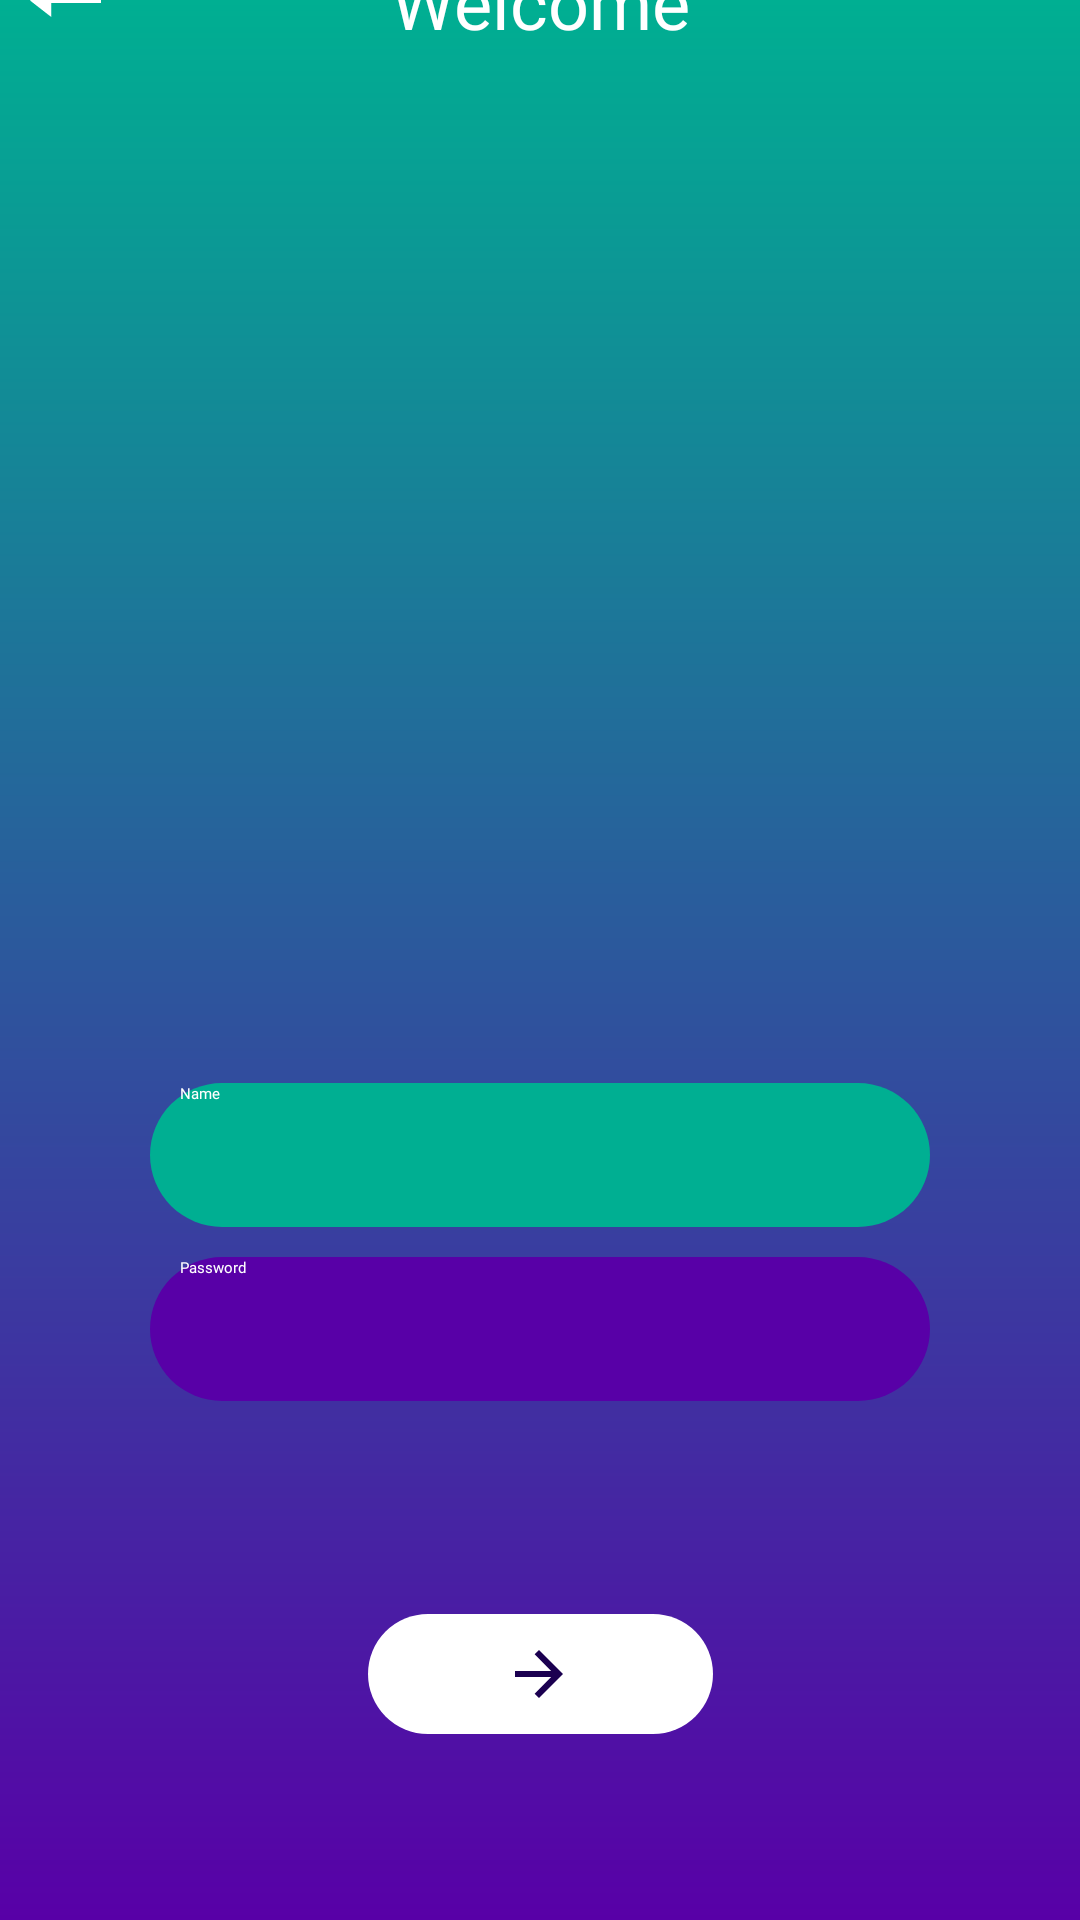

Icon bounding boxes for this 1080 × 1920 phone screenshot, format (x1,y1,x2,y2):
next: (368,1614,713,1734)
